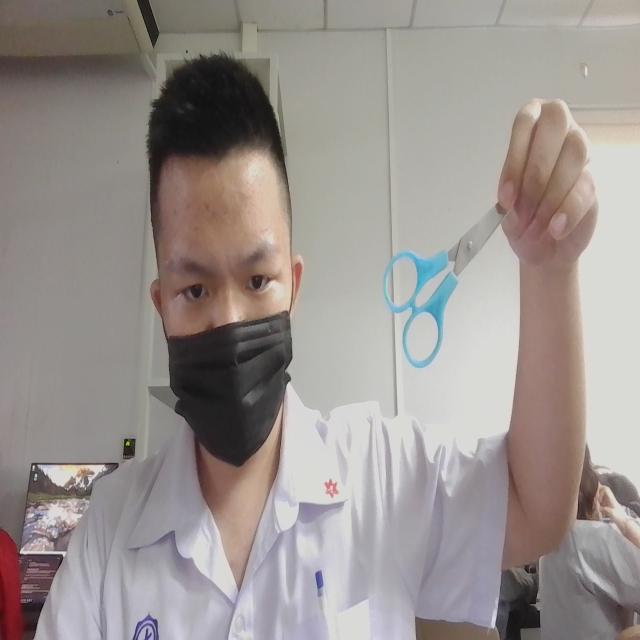scissors: (377, 195, 509, 379)
